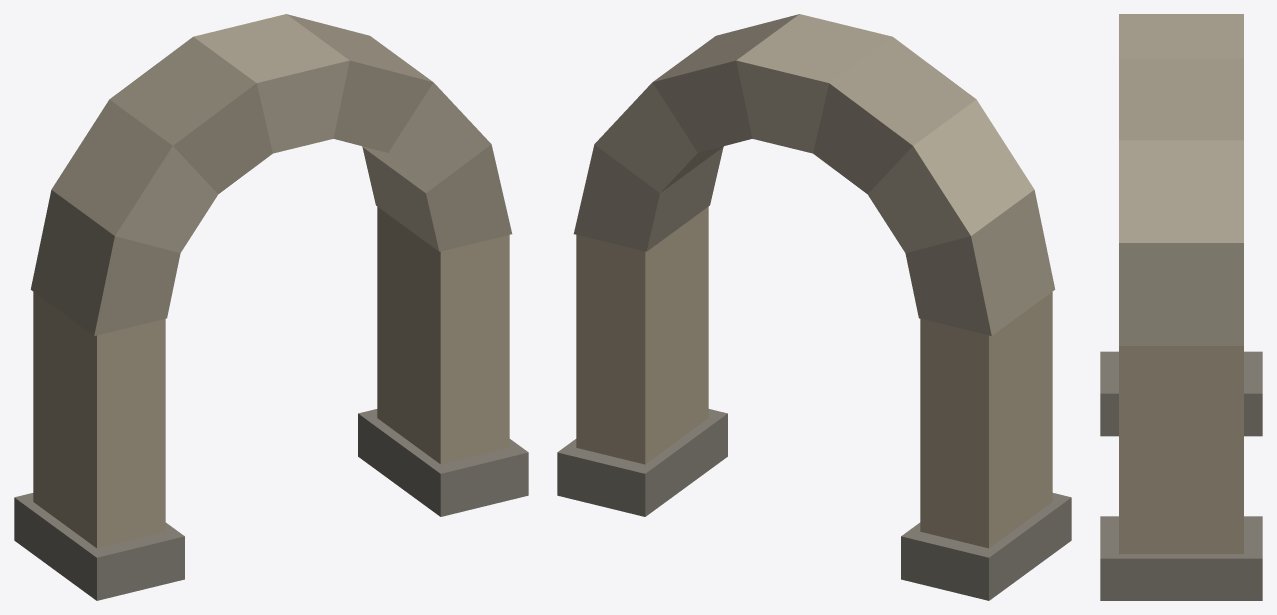
File: Dungeon_RuinedArch.fbx
3 views of the same model, side by side, from view 1: azimuth 30°, elevation 25°; view 2: azimuth 150°, elevation 25°; view 3: azimuth 270°, elevation 25° (orthographic).
Parts seen in each view (by area): view 1: Dungeon_RuinedArch; view 2: Dungeon_RuinedArch; view 3: Dungeon_RuinedArch.
Part boxes in pixels (x1,y1,x2,y2): Dungeon_RuinedArch: (14,14,528,600); Dungeon_RuinedArch: (557,14,1071,600); Dungeon_RuinedArch: (1100,14,1262,600).
Bounding box in the file's own units: 3.14 × 3.26 × 1.04.
